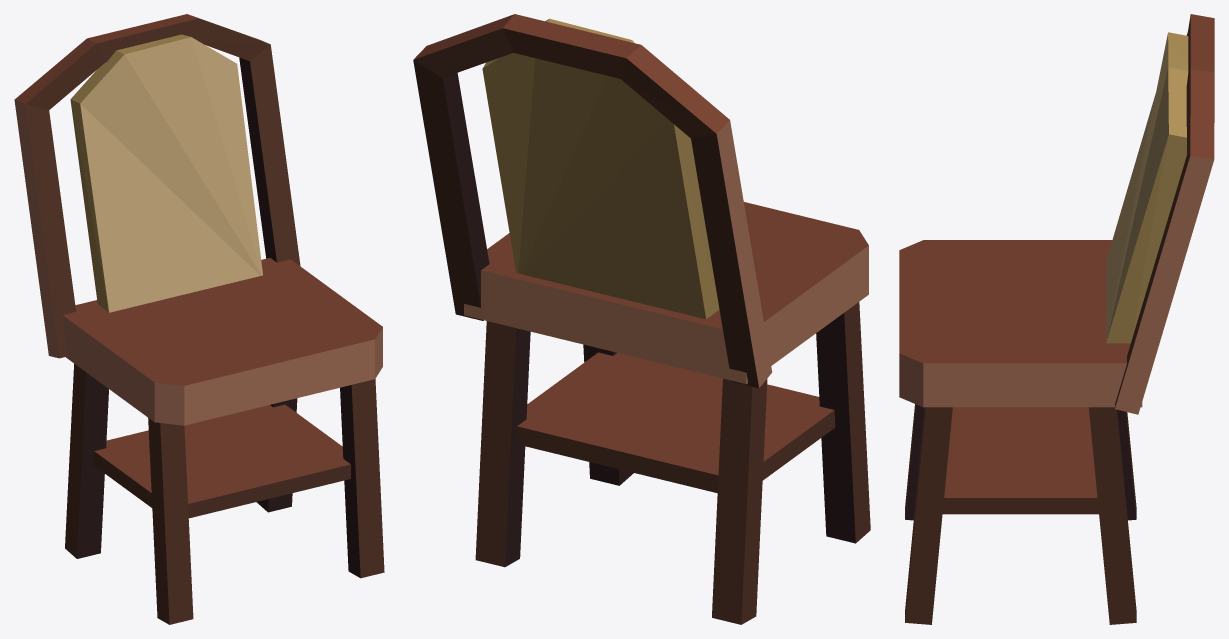
The model's file is TB_CITY_Prop_Chair_B.FBX.
3 views of the same model, side by side, from view 1: azimuth 30°, elevation 25°; view 2: azimuth 150°, elevation 25°; view 3: azimuth 270°, elevation 25° (orthographic). The views are drawn at different scales.
Parts seen in each view (by area): view 1: TB_CITY_Prop_Chair_B; view 2: TB_CITY_Prop_Chair_B; view 3: TB_CITY_Prop_Chair_B.
Part boxes in pixels (left/top/right/bottom): TB_CITY_Prop_Chair_B: left=14, top=14, right=384, bottom=624; TB_CITY_Prop_Chair_B: left=413, top=14, right=870, bottom=624; TB_CITY_Prop_Chair_B: left=899, top=14, right=1214, bottom=624.
Bounding box in the file's own units: 0.7778 × 1.44 × 0.7828.
